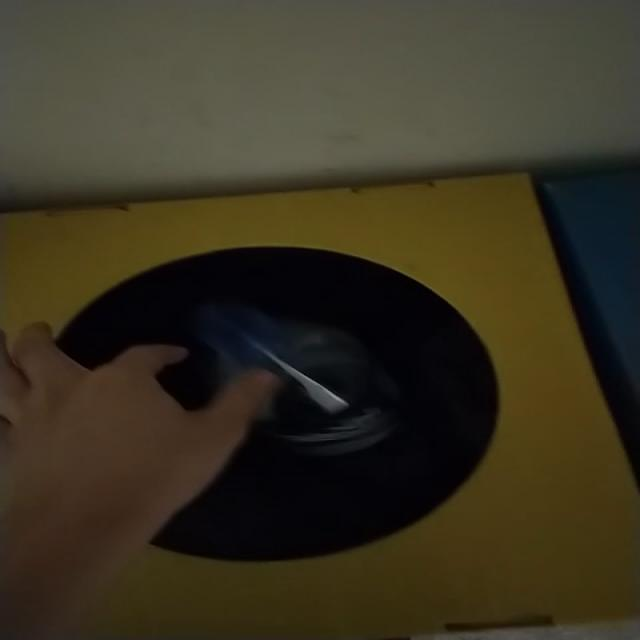plastic: (195, 302, 397, 457)
